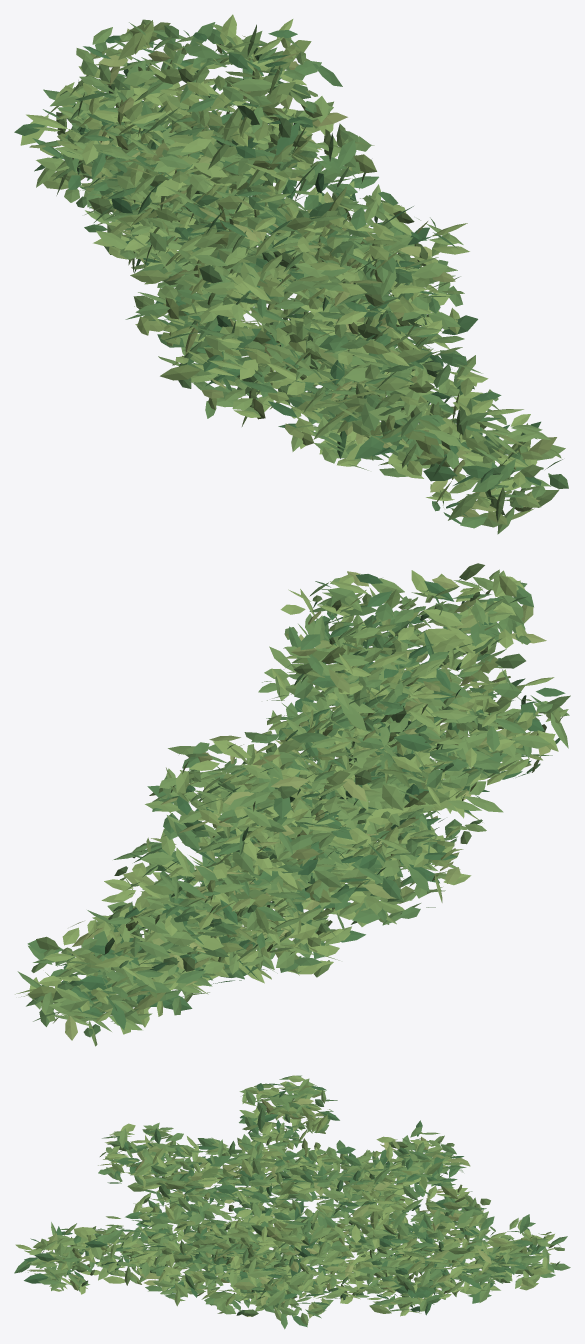
File: holy_canopy3_branchfit.glb
The picture shows the model from 3 angles, top to bottom: view 1: azimuth 30°, elevation 25°; view 2: azimuth 150°, elevation 25°; view 3: azimuth 270°, elevation 25°; orthographic projection. The views are drawn at different scales.
Parts seen in each view (by area): view 1: holy_canopy3; view 2: holy_canopy3; view 3: holy_canopy3.
Part boxes in pixels (x1=…): holy_canopy3: x1=14, y1=14, x2=568, y2=534; holy_canopy3: x1=15, y1=563, x2=570, y2=1046; holy_canopy3: x1=14, y1=1075, x2=570, y2=1329.
Bounding box in the file's own units: 8.3 × 12.35 × 28.57.
1 material, 1 textured.
